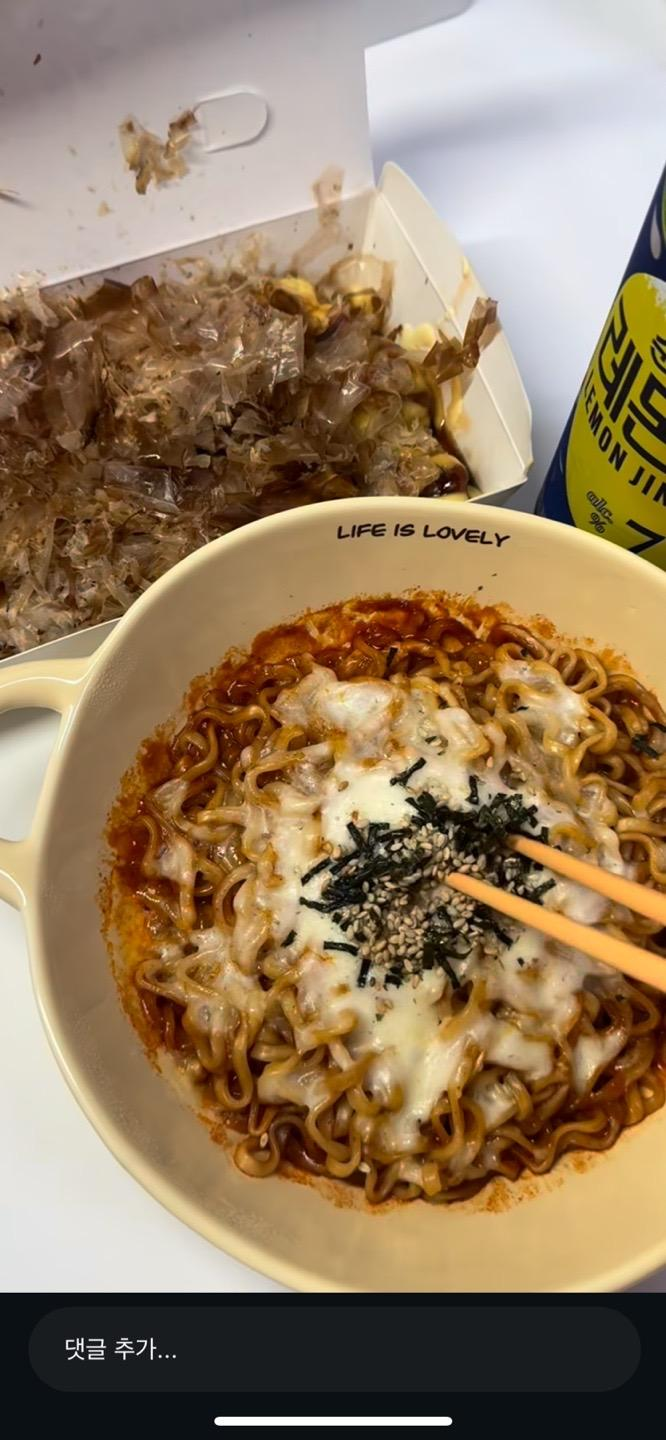Lunch Box: (0, 0, 531, 665)
